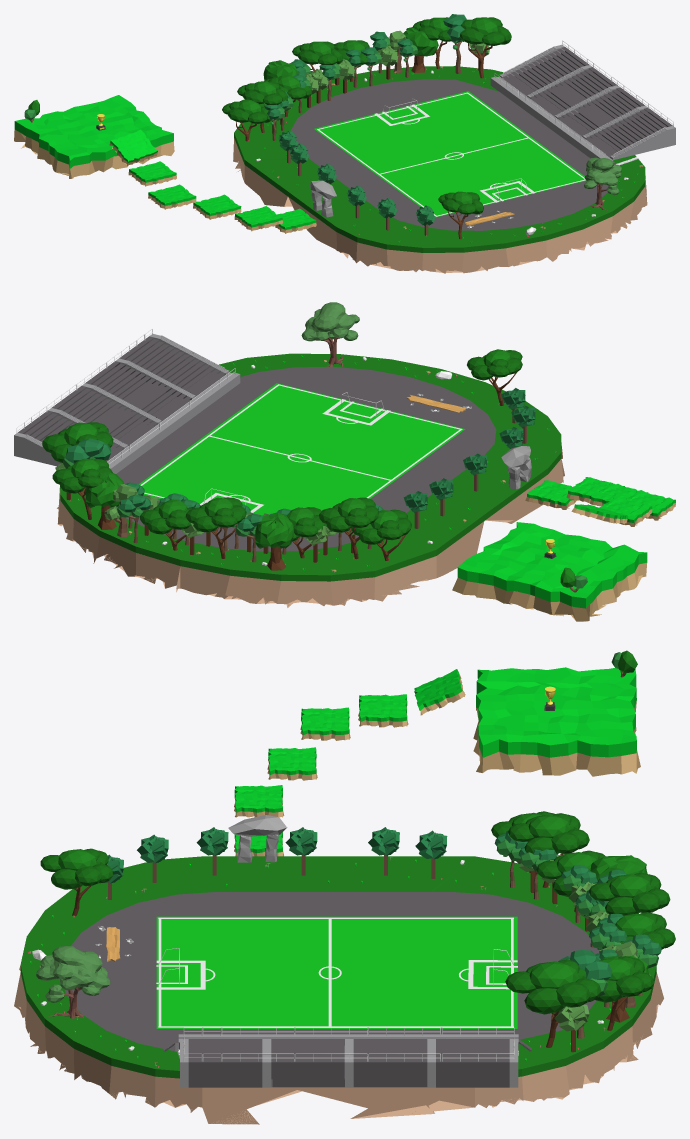
File: canchav9.glb
3 views of the same model, one above another, from view 1: azimuth 30°, elevation 25°; view 2: azimuth 150°, elevation 25°; view 3: azimuth 270°, elevation 25° (orthographic). The views are drawn at different scales.
Parts seen in each view (by area): view 1: PisoMundo, Cesped, Camino, Arboles, Graderias, IslaF, Arboles2, Pintura, Arboles3, Isla6, Isla4, Isla3 (+4 smaller); view 2: PisoMundo, Cesped, Arboles, Camino, Graderias, IslaF, Arboles2, Pintura, Arboles3, Isla1, Roca1, Isla5 (+4 smaller); view 3: PisoMundo, Cesped, Camino, Arboles, Graderias, IslaF, Arboles2, Pintura, Arboles3, Roca1, Isla3, Isla4 (+3 smaller).
Part boxes in pixels (x1=…): PisoMundo: x1=233, y1=66, x2=647, y2=273; Cesped: x1=314, y1=91, x2=585, y2=217; Camino: x1=290, y1=79, x2=608, y2=230; Arboles: x1=222, y1=14, x2=511, y2=141; Graderias: x1=490, y1=40, x2=675, y2=164; IslaF: x1=14, y1=95, x2=174, y2=178; Arboles2: x1=278, y1=130, x2=483, y2=239; Pintura: x1=317, y1=92, x2=585, y2=216; Arboles3: x1=584, y1=157, x2=621, y2=210; Isla6: x1=109, y1=129, x2=157, y2=165; Isla4: x1=148, y1=184, x2=196, y2=209; Isla3: x1=193, y1=194, x2=241, y2=219; PisoMundo: x1=57, y1=353, x2=564, y2=607; Cesped: x1=139, y1=383, x2=465, y2=515; Arboles: x1=42, y1=422, x2=411, y2=570; Camino: x1=116, y1=366, x2=496, y2=551; Graderias: x1=14, y1=329, x2=240, y2=473; IslaF: x1=452, y1=522, x2=647, y2=621; Arboles2: x1=403, y1=349, x2=535, y2=528; Pintura: x1=140, y1=384, x2=462, y2=512; Arboles3: x1=301, y1=302, x2=359, y2=366; Isla1: x1=525, y1=480, x2=578, y2=509; Roca1: x1=501, y1=446, x2=531, y2=489; Isla5: x1=599, y1=497, x2=652, y2=526; PisoMundo: x1=14, y1=856, x2=663, y2=1124; Cesped: x1=156, y1=916, x2=517, y2=1028; Camino: x1=65, y1=892, x2=599, y2=1051; Arboles: x1=491, y1=811, x2=675, y2=1052; Graderias: x1=163, y1=1027, x2=531, y2=1087; IslaF: x1=473, y1=667, x2=640, y2=776; Arboles2: x1=40, y1=827, x2=447, y2=916; Pintura: x1=156, y1=917, x2=517, y2=1027; Arboles3: x1=36, y1=946, x2=110, y2=1018; Roca1: x1=228, y1=815, x2=287, y2=862; Isla3: x1=267, y1=747, x2=317, y2=780; Isla4: x1=300, y1=707, x2=350, y2=740.
Size of the model in its own units: 135 by 24.77 by 102.
